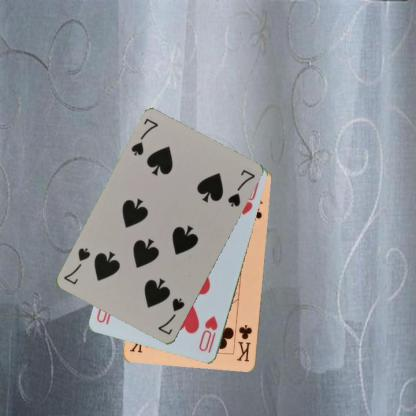10h: (196, 314, 219, 354)
7s: (128, 116, 160, 157), (155, 296, 186, 336)
Kc: (235, 322, 254, 363)
